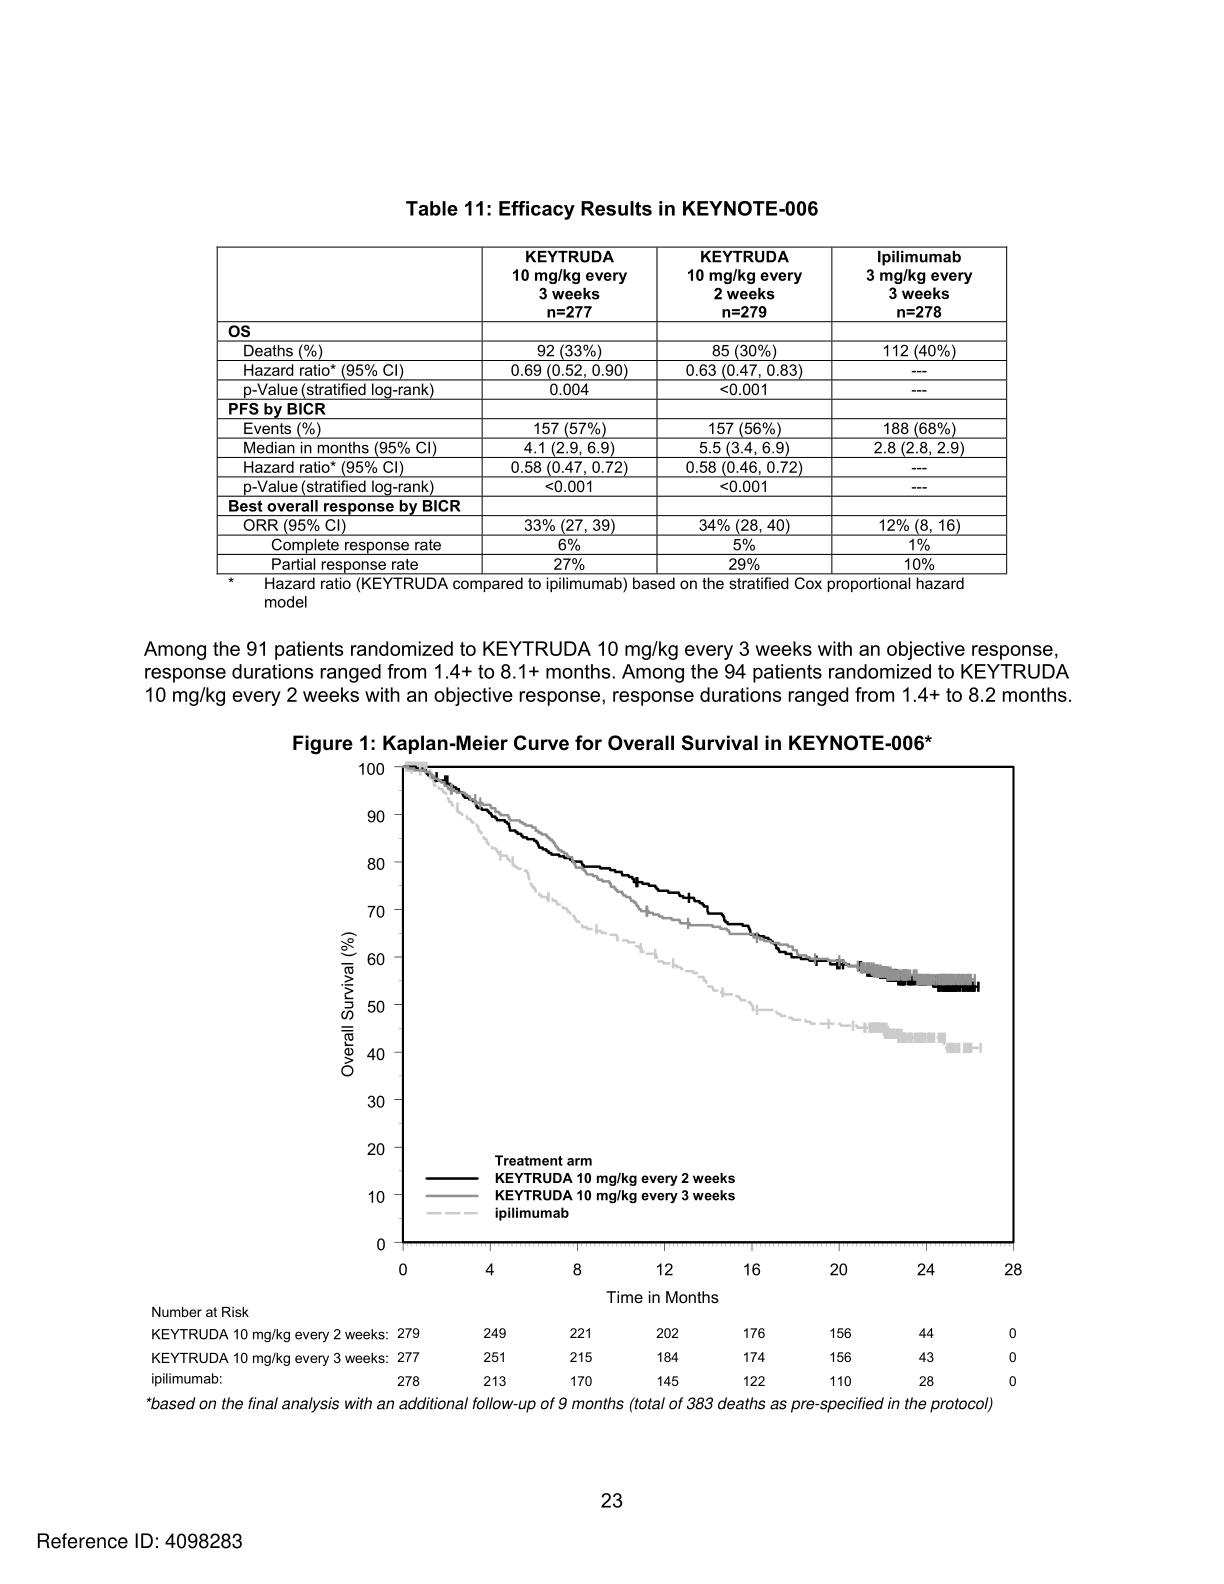full_lined: (216, 246, 1008, 575)
nolines: (147, 1324, 1021, 1391)
